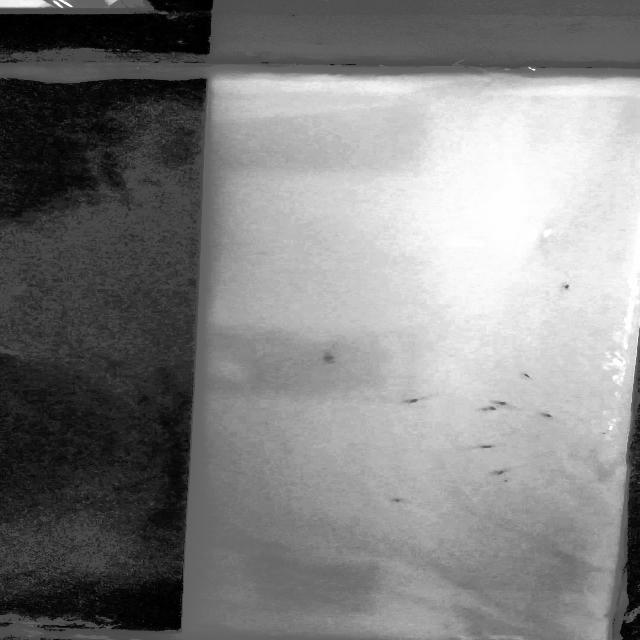shrimp: (315, 351, 348, 372), (393, 393, 433, 409), (549, 280, 582, 297), (385, 492, 409, 510), (490, 465, 514, 482), (515, 369, 540, 384), (539, 410, 561, 423), (494, 398, 519, 408), (474, 442, 498, 451), (482, 402, 499, 413)
